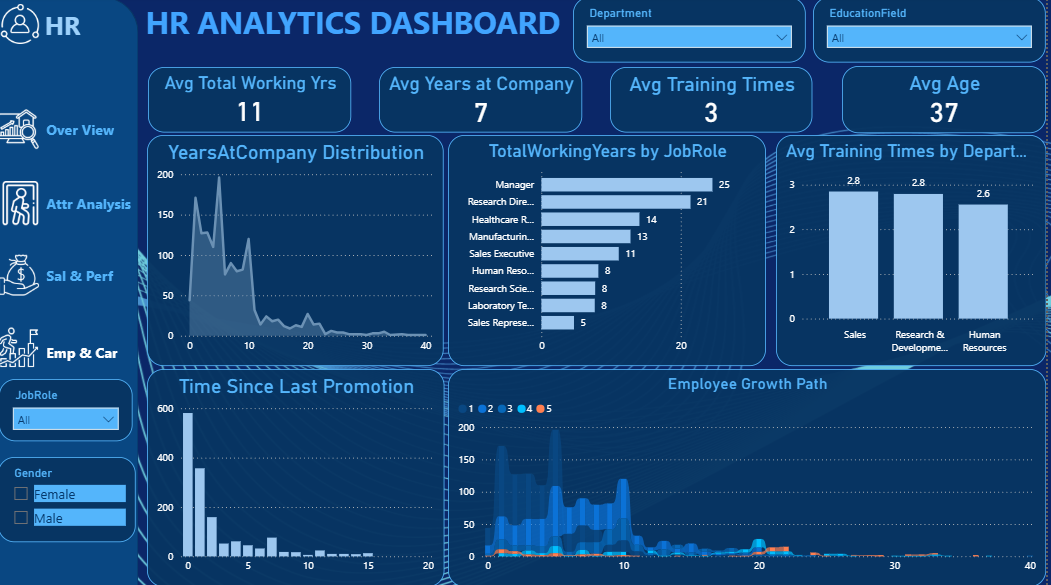

The page's visual inventory and layout, read from the dashboard file:
{"tool":"powerbi","page":{"name":" Employee Profile & Career Growth","canvas":[1280,720],"ordinal":3},"visuals":[{"type":"textbox","box":[173.4,0,521.6,61.8],"z":0},{"type":"actionButton","box":[55.8,142.2,111.7,39.9],"z":0,"group":"g1"},{"type":"shape","box":[0,0,172.4,720],"z":1000},{"type":"actionButton","box":[55.8,232.6,111.7,39.9],"z":1000,"group":"g1"},{"type":"image","box":[0,5.3,55.8,55.8],"z":2000},{"type":"actionButton","box":[55.8,320.3,111.7,39.9],"z":2000,"group":"g1"},{"type":"group","id":"g1","title":"Group 1","box":[0,136.9,167.5,316.3],"z":3000},{"type":"actionButton","box":[55.8,413.4,111.7,39.9],"z":3000,"group":"g1"},{"type":"slicer","fields":{"Values":["HR Dataset.Department"]},"box":[702.9,0,284.3,80],"z":4000},{"type":"image","box":[0,136.9,51.8,49.2],"z":4000,"group":"g1"},{"type":"slicer","fields":{"Values":["HR Dataset.EducationField"]},"box":[995.7,0,284.3,80],"z":5000},{"type":"image","box":[0,224.6,57.2,54.5],"z":5000,"group":"g1"},{"type":"image","box":[1.3,312.4,50.5,54.5],"z":6000,"group":"g1"},{"type":"slicer","fields":{"Values":["HR Dataset.Gender"]},"box":[1.5,560.9,167.6,104.4],"z":6000},{"type":"image","box":[0,401.4,50.5,51.8],"z":7000,"group":"g1"},{"type":"slicer","fields":{"Values":["HR Dataset.JobRole"]},"box":[2.9,466.7,163.2,76.5],"z":7000},{"type":"card","title":"Avg Total Working Yrs","fields":{"Values":["HR Dataset.Avg Total Working Years"]},"box":[184,85.7,248,80],"z":8000},{"type":"card","title":"Avg Years at Company","fields":{"Values":["HR Dataset.Avg Years at Company"]},"box":[466.3,85.7,248,80],"z":9000},{"type":"card","title":"Avg Training Times","fields":{"Values":["HR Dataset.Avg Training Times"]},"box":[748.6,85.7,247.1,80],"z":10000},{"type":"card","title":"Avg Age","fields":{"Values":["HR Dataset.Avg Age"]},"box":[1030.7,84,248.9,81.8],"z":11000},{"type":"areaChart","title":"YearsAtCompany Distribution","fields":{"Category":["HR Dataset.YearsAtCompany"],"Y":["HR Dataset.Total Employees"]},"box":[183.6,168.7,362,282],"z":12000},{"type":"clusteredColumnChart","title":"Time Since Last Promotion","fields":{"Category":["HR Dataset.YearsSinceLastPromotion"],"Y":["HR Dataset.Total Employees"]},"box":[183.6,453.7,362.7,265.7],"z":13000},{"type":"clusteredBarChart","title":"TotalWorkingYears by JobRole","fields":{"Category":["HR Dataset.JobRole"],"Y":["HR Dataset.Avg Total Working Years"]},"box":[550.7,168.7,388.1,282.1],"z":14000},{"type":"columnChart","fields":{"Category":["HR Dataset.Department"],"Y":["HR Dataset.Avg Training Times"]},"box":[950.7,168.7,329.9,282.1],"z":15000},{"type":"ribbonChart","title":"Employee Growth Path","fields":{"Category":["HR Dataset.YearsAtCompany"],"Series":["HR Dataset.JobLevel"],"Y":["CountNonNull(HR Dataset.Employee_ID)"]},"box":[550.7,453.7,729.9,265.7],"z":16000}]}

Visuals, with their boxes in screenshot pixels (x1, y1, x2, y2), scaled from the page's 1280x720 canvas onto the 1051x585 screenshot:
textbox: box=[142, 0, 571, 50]
actionButton: box=[46, 116, 138, 148]
shape: box=[0, 0, 142, 584]
actionButton: box=[46, 189, 138, 221]
image: box=[0, 4, 46, 50]
actionButton: box=[46, 260, 138, 293]
"Group 1" group: box=[0, 111, 138, 368]
actionButton: box=[46, 336, 138, 368]
slicer - HR Dataset.Department: box=[577, 0, 811, 65]
image: box=[0, 111, 43, 151]
slicer - HR Dataset.EducationField: box=[818, 0, 1050, 65]
image: box=[0, 182, 47, 227]
image: box=[1, 254, 43, 298]
slicer - HR Dataset.Gender: box=[1, 456, 139, 541]
image: box=[0, 326, 41, 368]
slicer - HR Dataset.JobRole: box=[2, 379, 136, 441]
"Avg Total Working Yrs" card: box=[151, 70, 355, 135]
"Avg Years at Company" card: box=[383, 70, 587, 135]
"Avg Training Times" card: box=[615, 70, 818, 135]
"Avg Age" card: box=[846, 68, 1050, 135]
"YearsAtCompany Distribution" areaChart: box=[151, 137, 448, 366]
"Time Since Last Promotion" clusteredColumnChart: box=[151, 369, 449, 584]
"TotalWorkingYears by JobRole" clusteredBarChart: box=[452, 137, 771, 366]
columnChart - HR Dataset.Department x HR Dataset.Avg Training Times: box=[781, 137, 1050, 366]
"Employee Growth Path" ribbonChart: box=[452, 369, 1050, 584]
